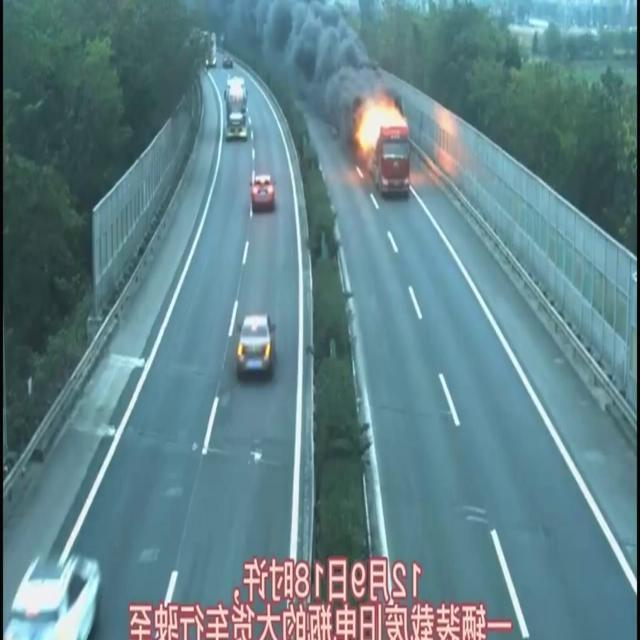accident: (332, 83, 416, 203)
